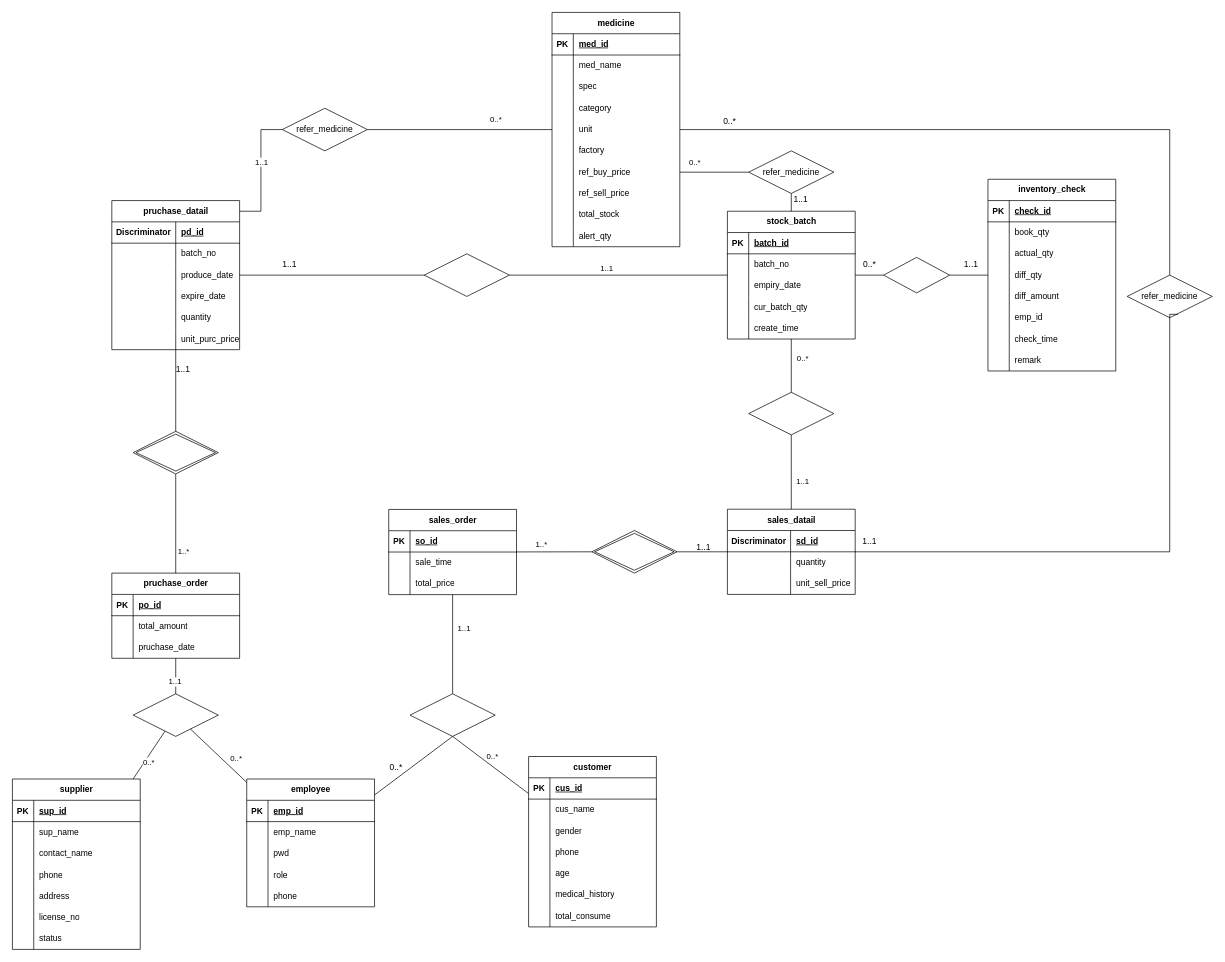
This 1225x962 diagram has some shape labels left out. The centre of each missing label's shape, as x and y in pixels:
check: [916,275]
comsume(消耗): [791,413]
contain: [175,452]
contains: [634,551]
pruchase: [175,714]
sale: [452,714]
store: [466,274]
